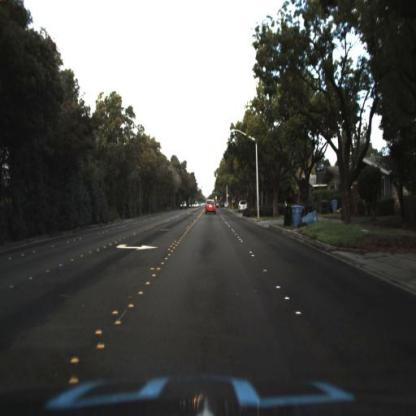car: (203, 196, 219, 219), (239, 198, 250, 213)
